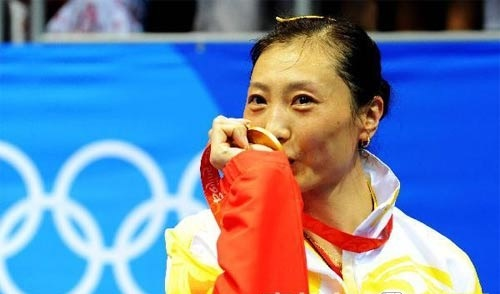face: (240, 48, 340, 194)
